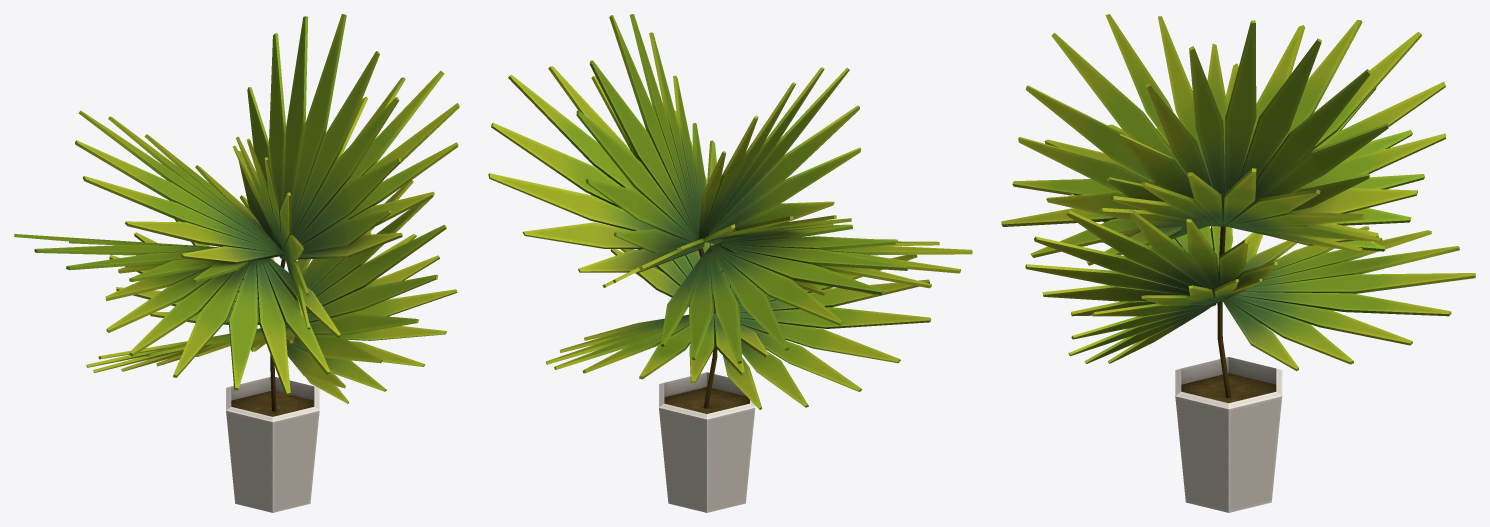
The model's file is Umbrella palm tree.glb.
3 renders of one model, left to right at view 1: azimuth 30°, elevation 25°; view 2: azimuth 150°, elevation 25°; view 3: azimuth 270°, elevation 25°, orthographic. The views are drawn at different scales.
Visible parts, largest first — view 1: UmbrellaPalmTree_mesh; view 2: UmbrellaPalmTree_mesh; view 3: UmbrellaPalmTree_mesh.
Part boxes in pixels (x1,y1,x2,y2): UmbrellaPalmTree_mesh: [14, 14, 459, 512]; UmbrellaPalmTree_mesh: [488, 14, 972, 512]; UmbrellaPalmTree_mesh: [1001, 14, 1475, 512].
Bounding box in the file's own units: 8.24 × 9.23 × 7.68.
Materials: 1 (1 with a texture image).
